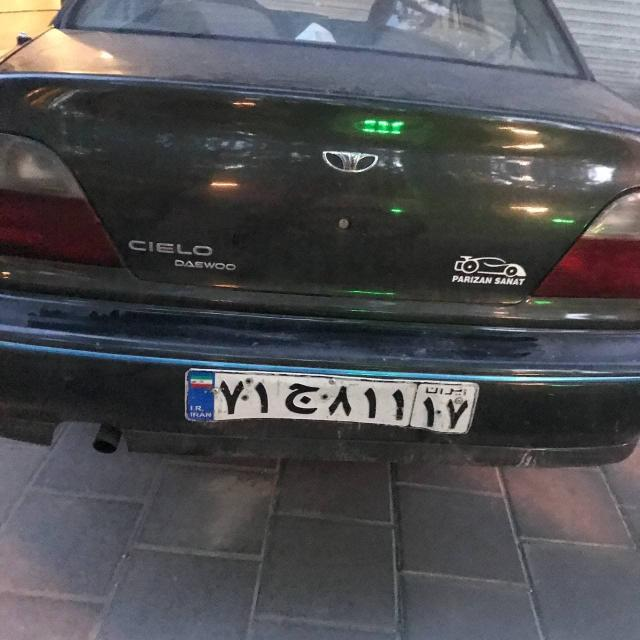Plates: (183, 367, 479, 436)
